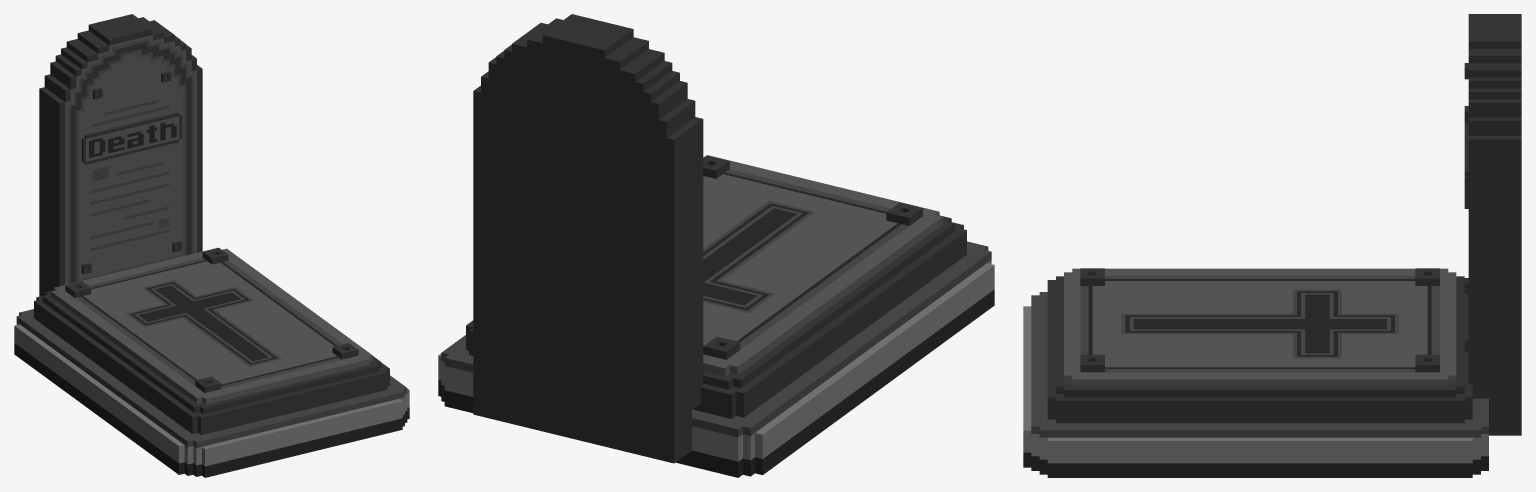
File: tomb.fbx
3 renders of one model, left to right at view 1: azimuth 30°, elevation 25°; view 2: azimuth 150°, elevation 25°; view 3: azimuth 270°, elevation 25°, orthographic. The views are drawn at different scales.
Parts seen in each view (by area): view 1: Tomb; view 2: Tomb; view 3: Tomb.
Part boxes in pixels (bbox=[...]): Tomb: bbox=[14, 14, 409, 477]; Tomb: bbox=[438, 14, 994, 477]; Tomb: bbox=[1023, 14, 1521, 477].
Bounding box in the file's own units: 84 × 102 × 122.
